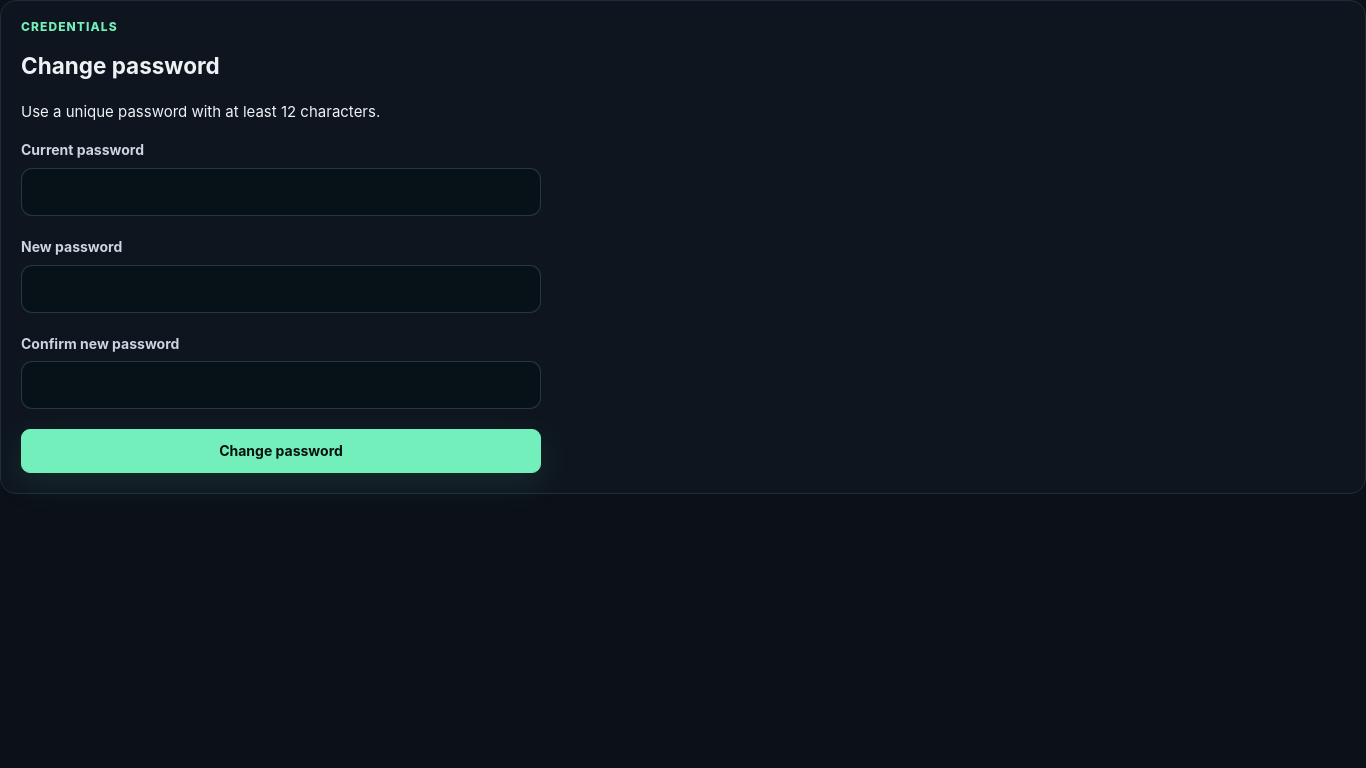
PasswordChangeForm › requires the current password and matching strong replacement
In the password field labelled "Current password": (281, 192) [21, 168, 541, 216], type "old-secret"
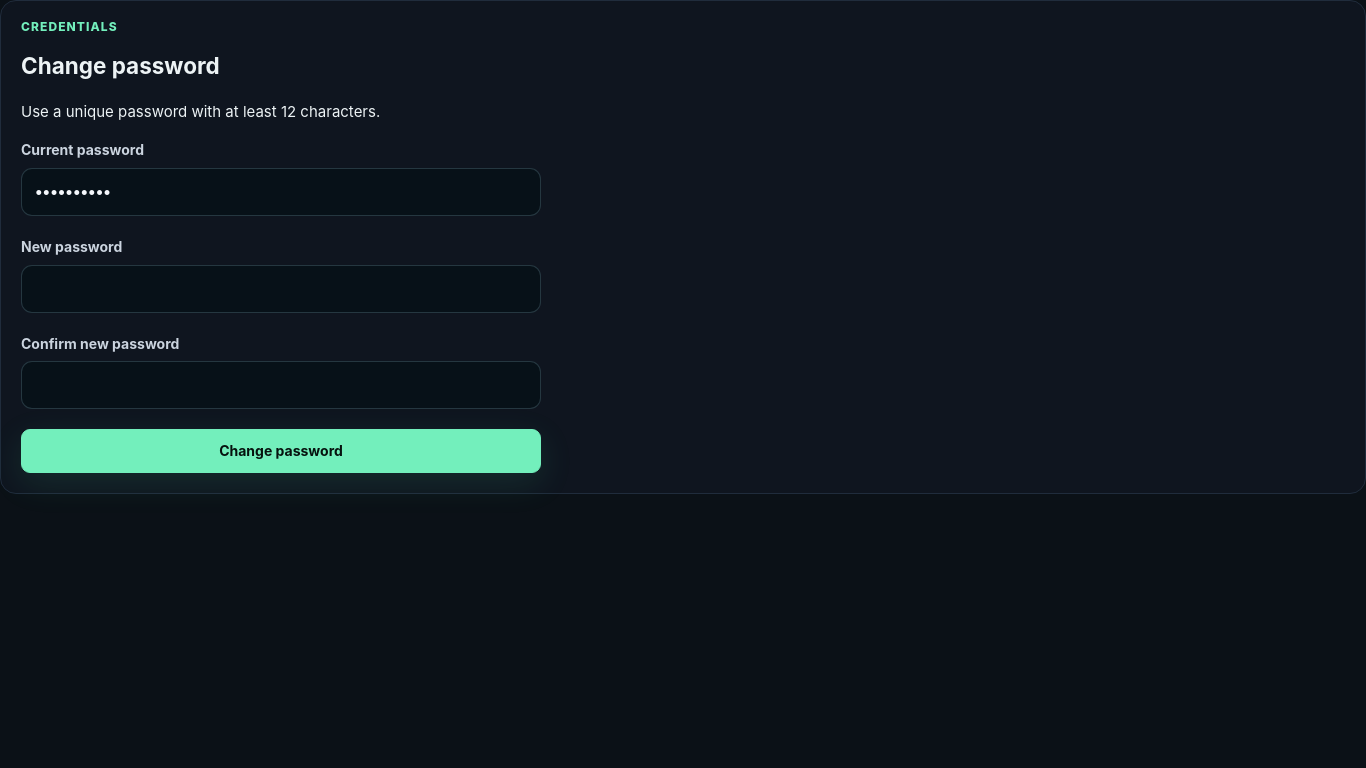
In the password field labelled "New password": (281, 288) [21, 264, 541, 312], type "a-new-password-123"
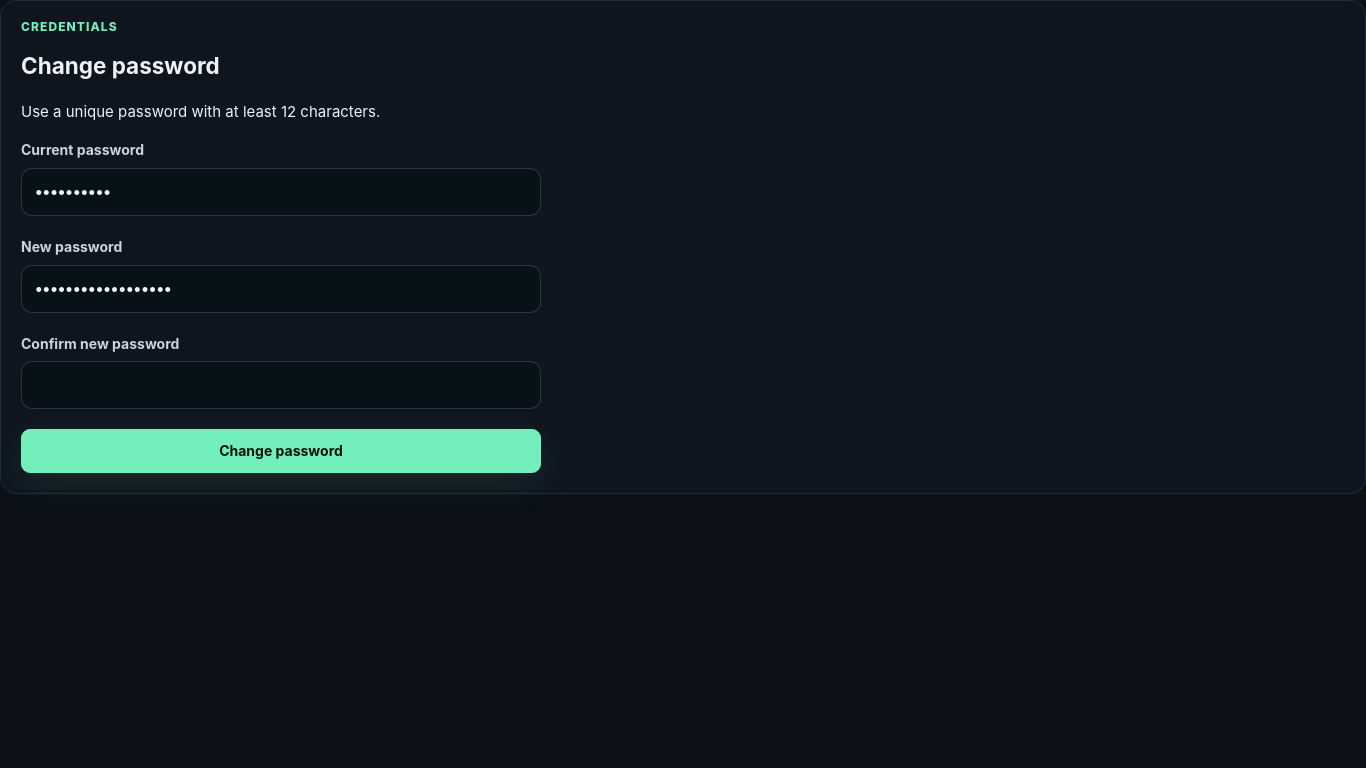
In the password field labelled "Confirm new password": (281, 385) [21, 361, 541, 409], type "a-new-password-123"
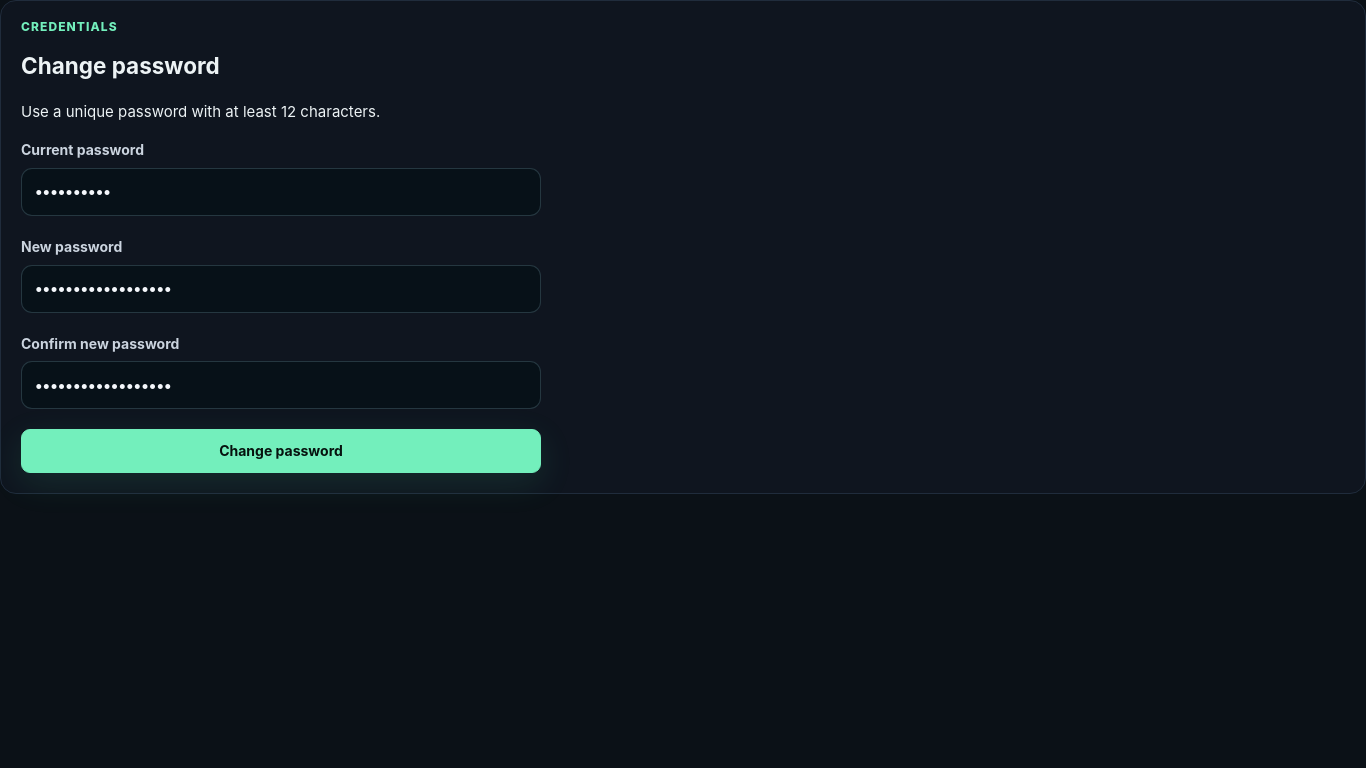
Click the button "Change password": click(281, 451) [21, 429, 541, 473]
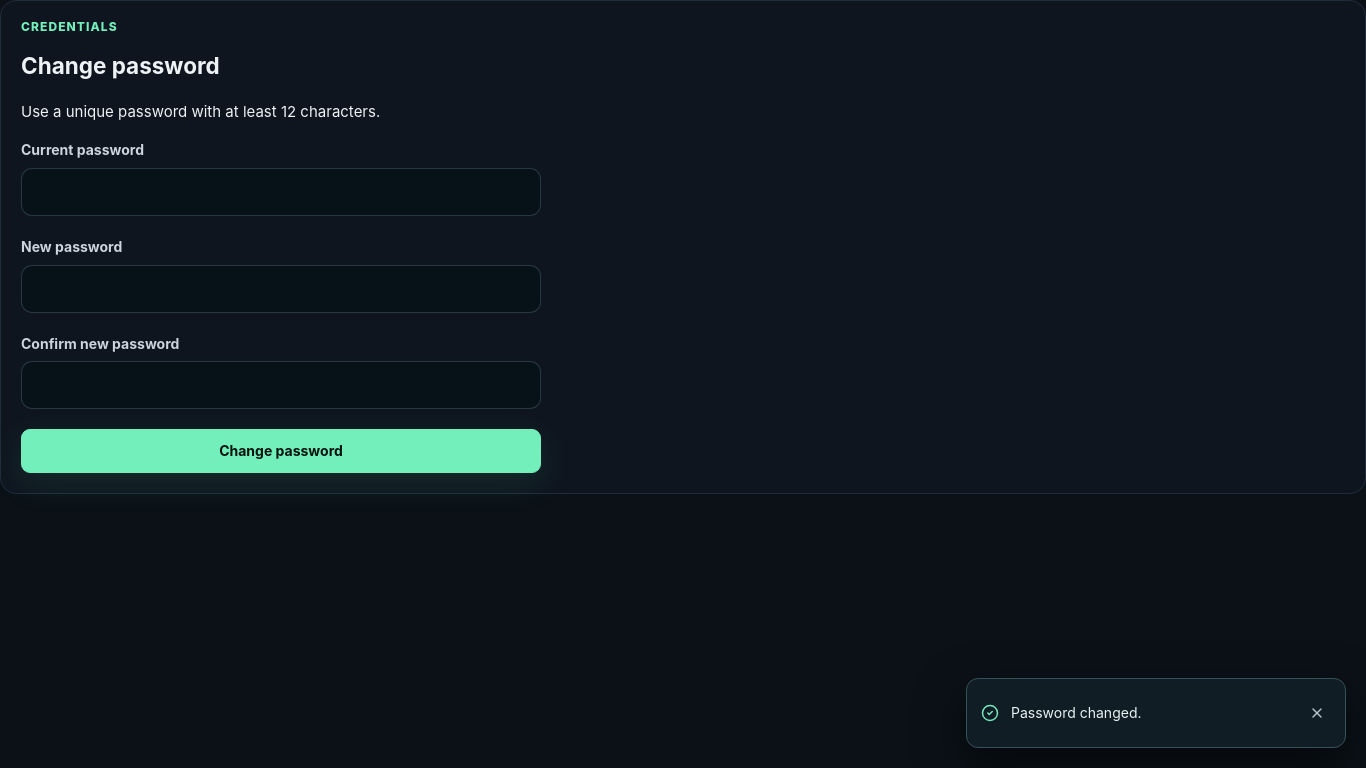
Check: the message reads "Password changed.", box [1011, 704, 1142, 721]
